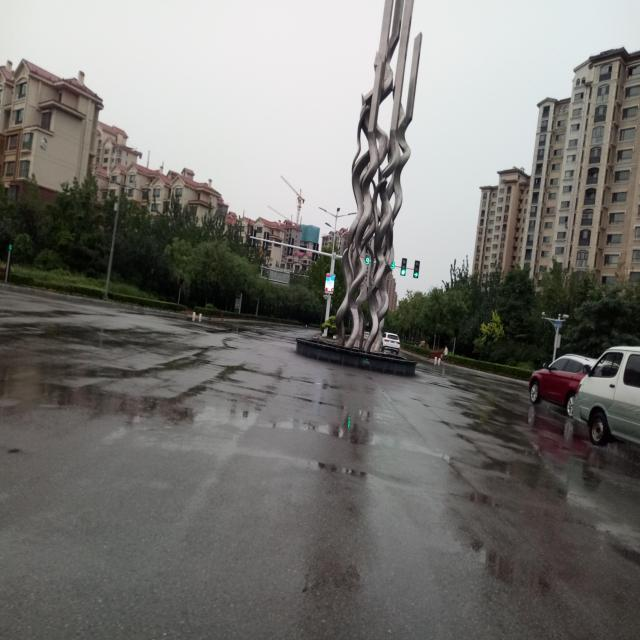car: (572, 346, 638, 454), (530, 348, 572, 416), (382, 329, 400, 352)
